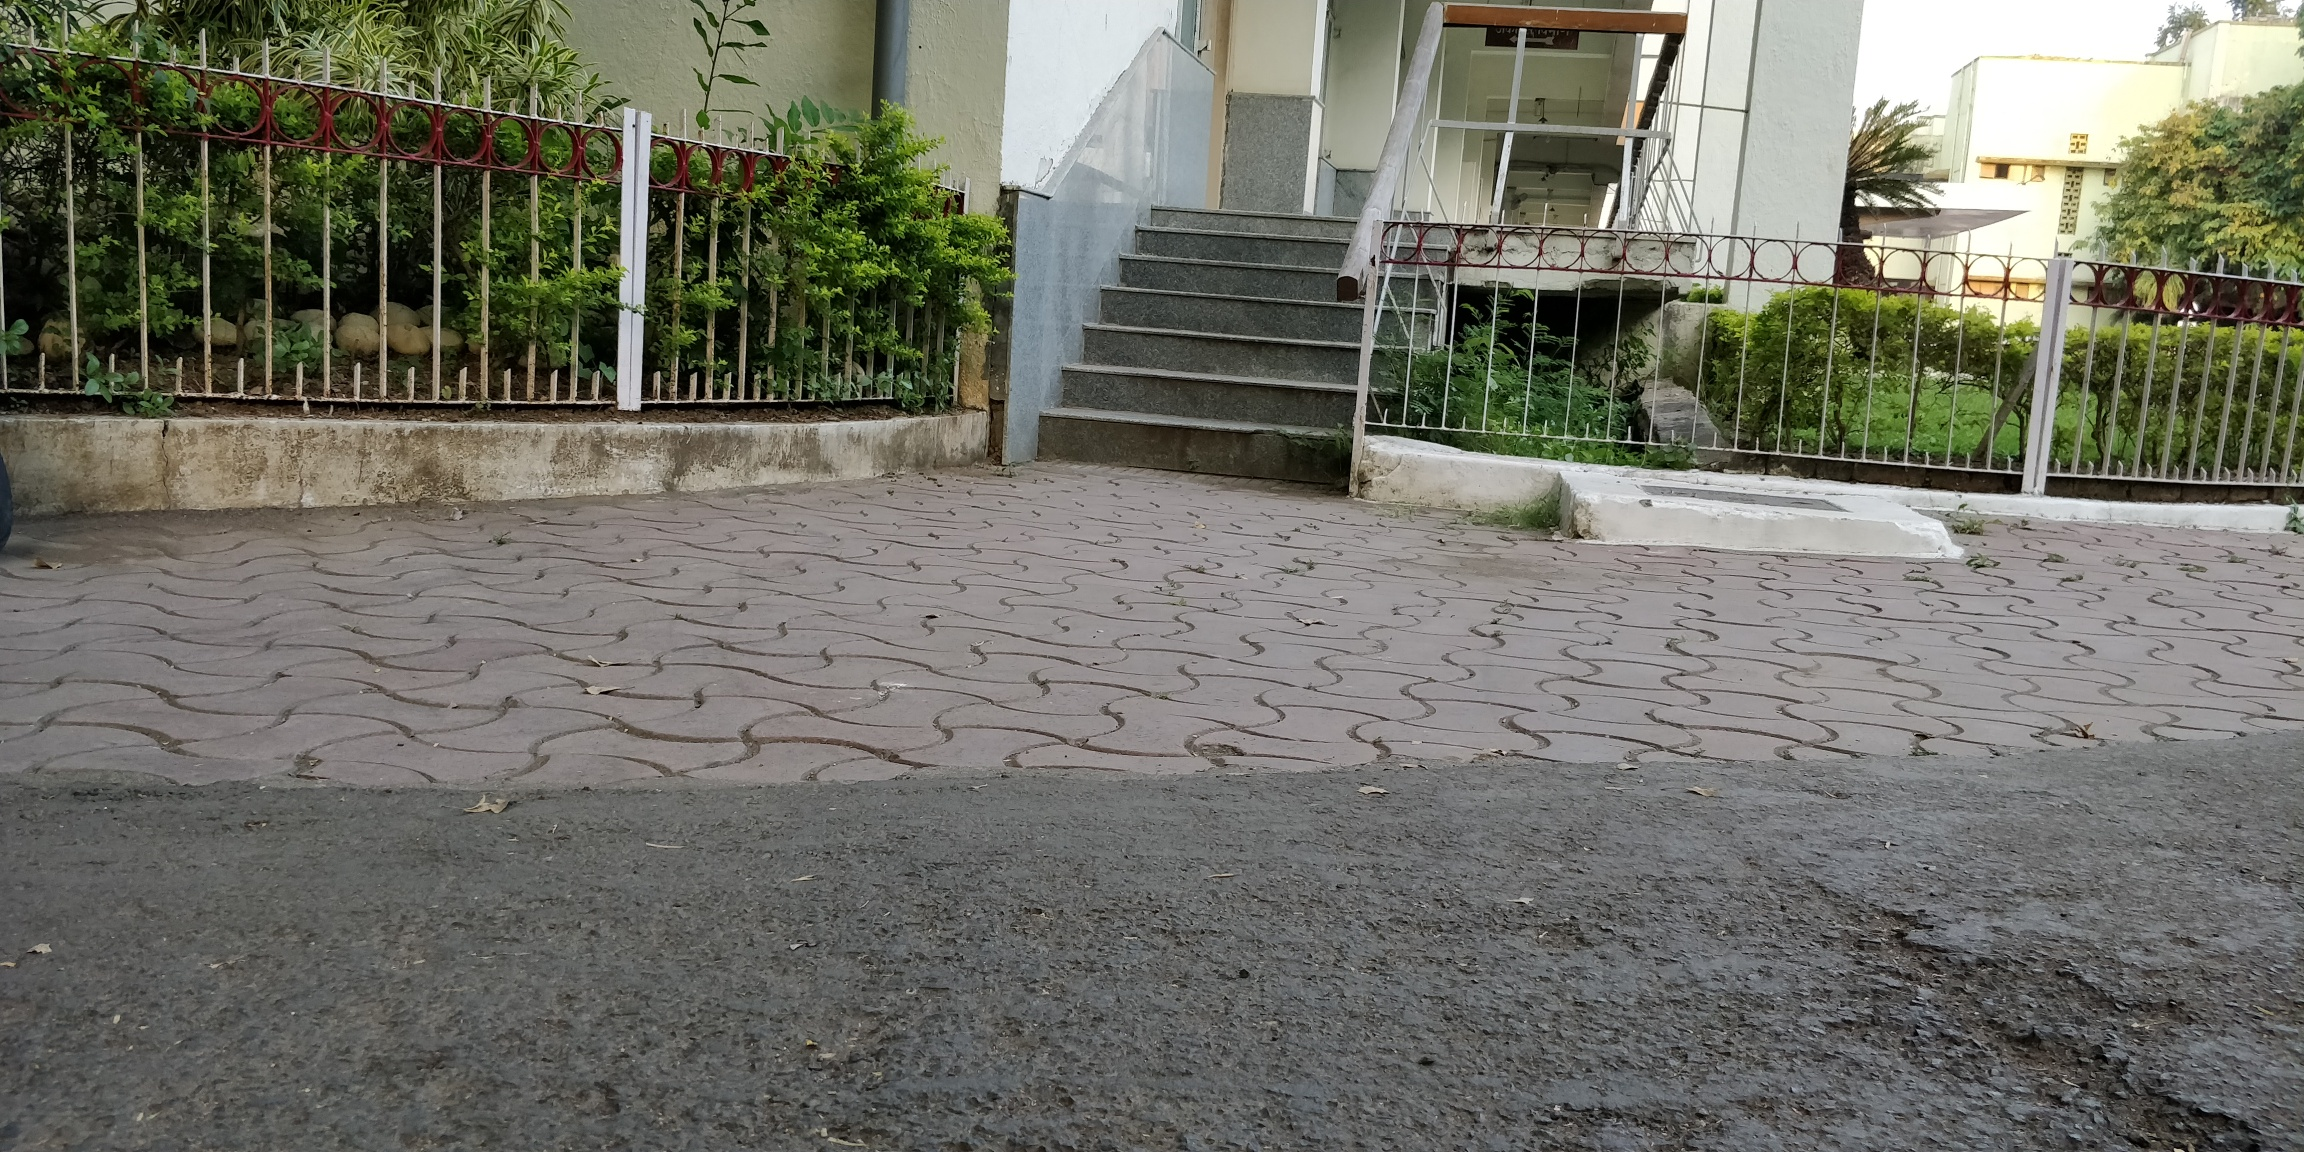stairs_up: (1033, 204, 1439, 488)
